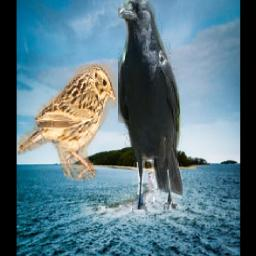Crow: (118, 0, 183, 211)
Sparrow: (17, 64, 117, 180)
